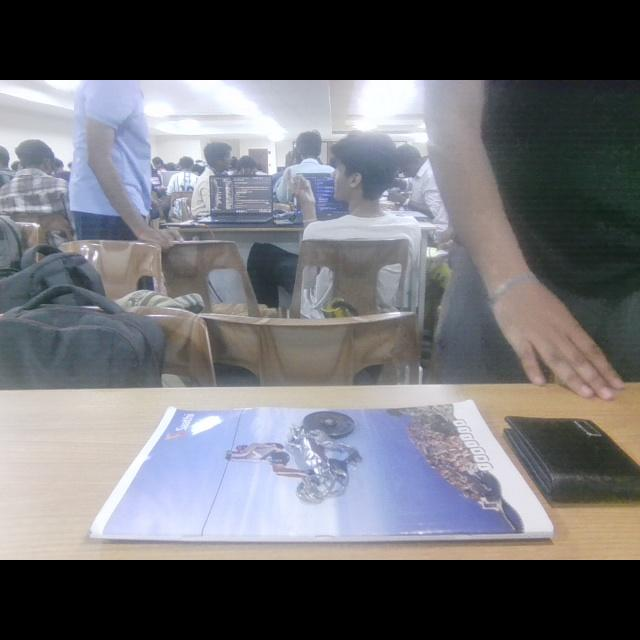wallet: (498, 396, 640, 512)
